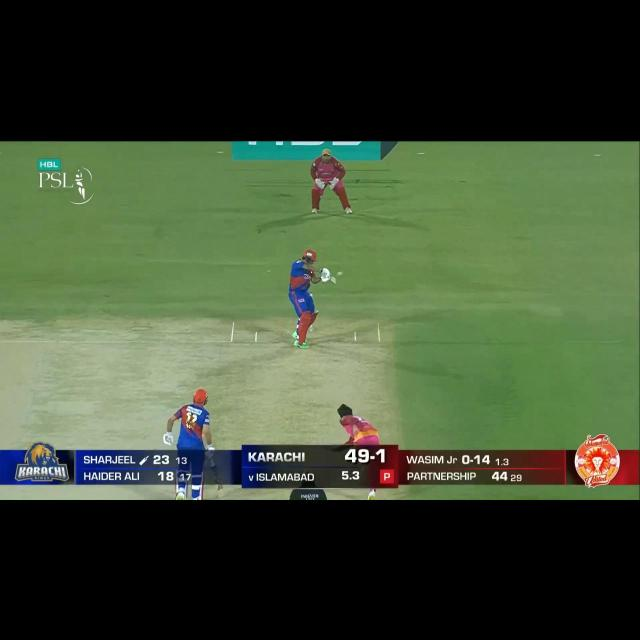bat: (329, 274, 339, 286)
toe: (216, 485, 224, 497), (332, 276, 336, 285)
